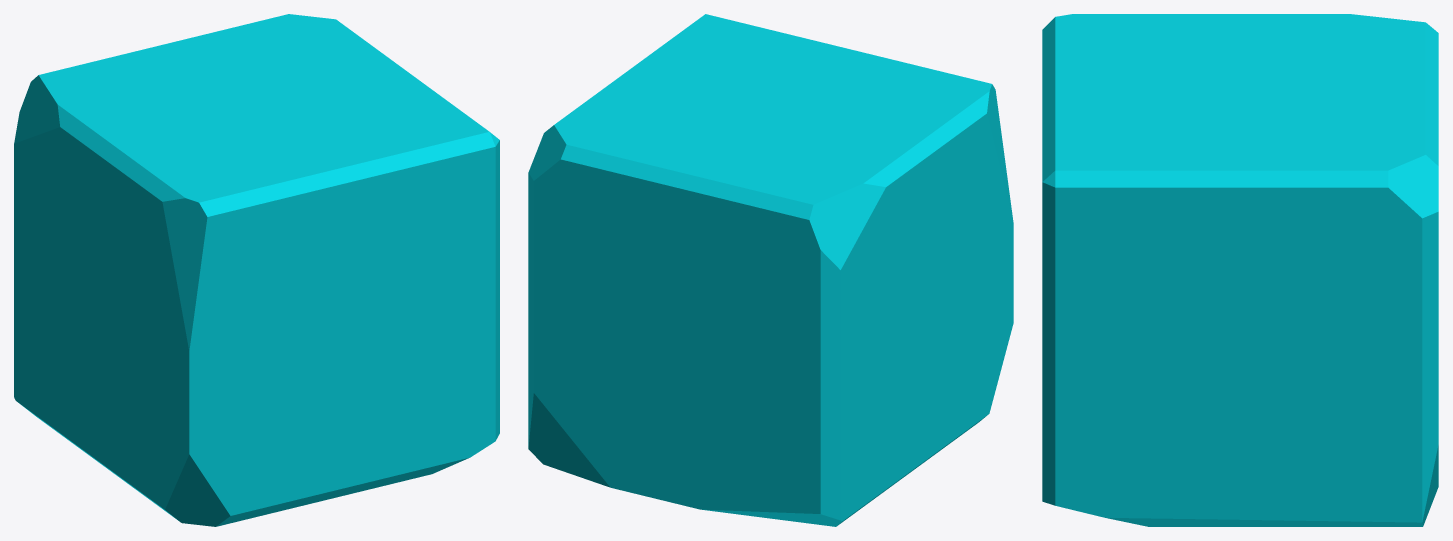
The model's file is Piece_BasicBlue.fbx.
3 views of the same model, side by side, from view 1: azimuth 30°, elevation 25°; view 2: azimuth 150°, elevation 25°; view 3: azimuth 270°, elevation 25° (orthographic). The views are drawn at different scales.
Visible parts, largest first — view 1: Piece; view 2: Piece; view 3: Piece.
Boxes of the visible parts, x1,y1,x2,y2 form: Piece: [14, 14, 499, 526]; Piece: [528, 14, 1013, 526]; Piece: [1042, 14, 1438, 526].
Bounding box in the file's own units: 63.84 × 63.84 × 63.84.
